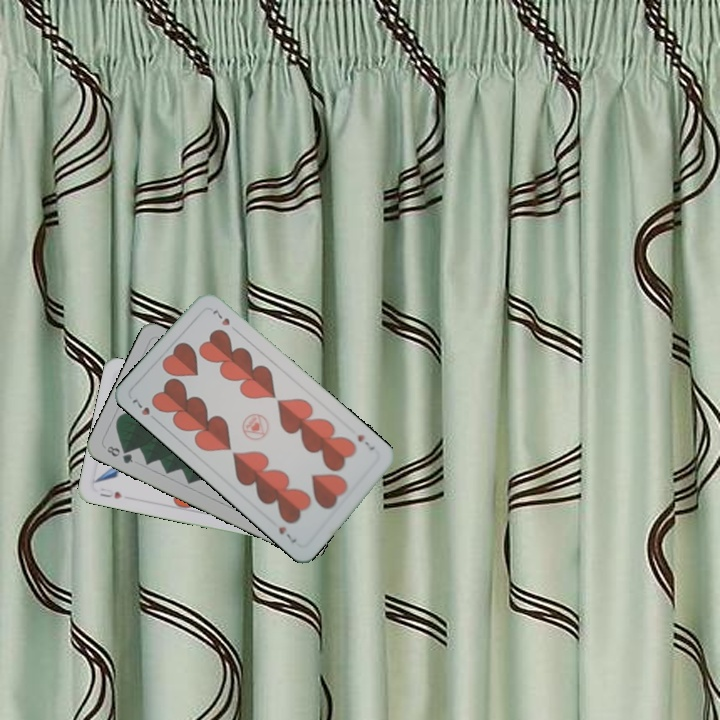G8: (103, 442, 136, 466)
H7: (128, 395, 161, 425), (353, 430, 377, 453)
HU: (96, 484, 125, 501)
